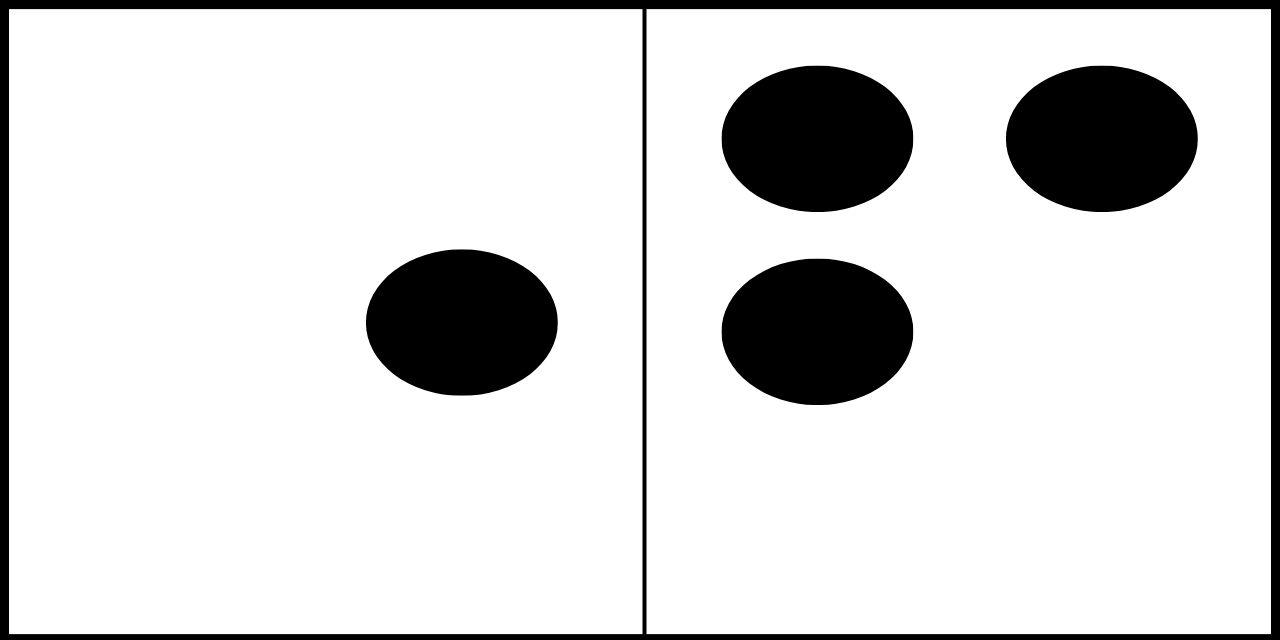dot_5: (100, 62, 560, 593)
two_cell_alphabet_papaano: (721, 63, 1199, 593)
